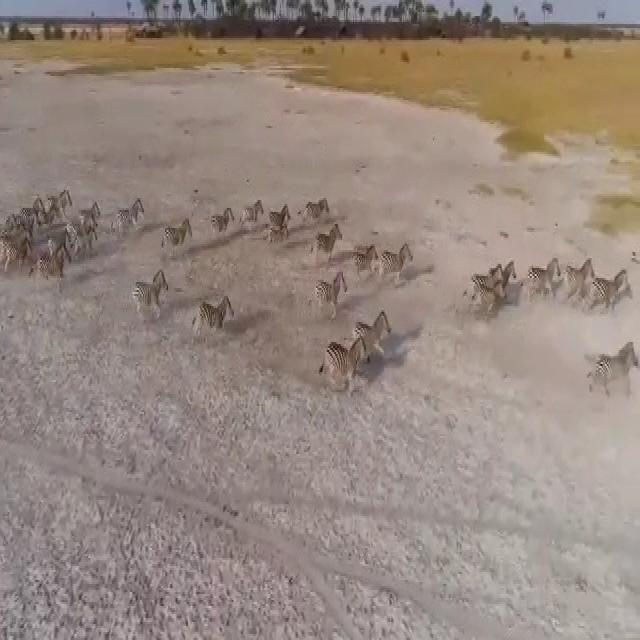Zebra: (594, 345, 638, 408), (319, 338, 368, 391), (471, 255, 520, 302), (353, 310, 398, 359), (32, 248, 81, 290), (128, 270, 170, 318), (314, 266, 348, 319), (68, 200, 101, 253), (531, 253, 560, 308), (192, 297, 235, 334), (112, 192, 144, 240), (310, 219, 344, 264), (375, 247, 413, 285), (17, 196, 52, 235), (597, 264, 629, 306), (567, 265, 600, 304), (481, 283, 505, 335), (163, 217, 196, 254), (208, 204, 236, 240), (266, 207, 292, 245), (352, 243, 374, 283), (238, 200, 262, 235), (6, 236, 26, 270), (302, 202, 330, 224), (49, 194, 71, 220)
